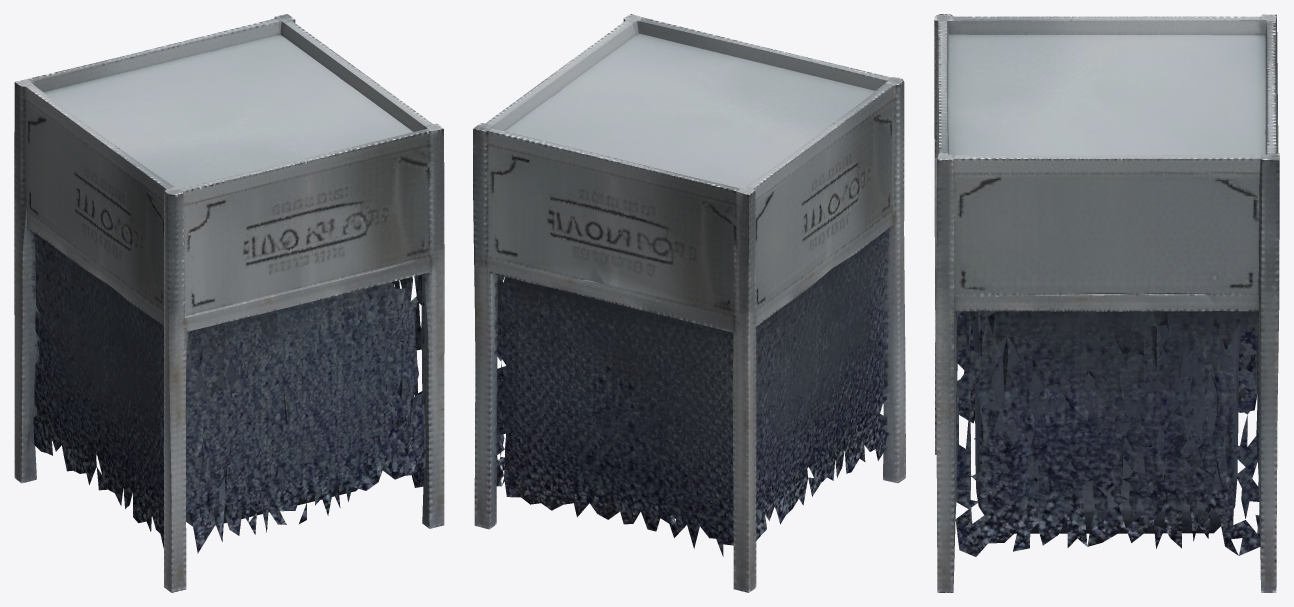
The picture shows the model from 3 angles, left to right: view 1: azimuth 30°, elevation 25°; view 2: azimuth 150°, elevation 25°; view 3: azimuth 270°, elevation 25°; orthographic projection. The views are drawn at different scales.
Parts seen in each view (by area): view 1: bin-snow; view 2: bin-snow; view 3: bin-snow.
Boxes of the visible parts, x1,y1,x2,y2 form: bin-snow: [14, 14, 444, 592]; bin-snow: [473, 14, 905, 592]; bin-snow: [934, 14, 1279, 592].
Bounding box in the file's own units: 0.7234 × 0.999 × 0.7215.
Materials: 1 (1 with a texture image).
